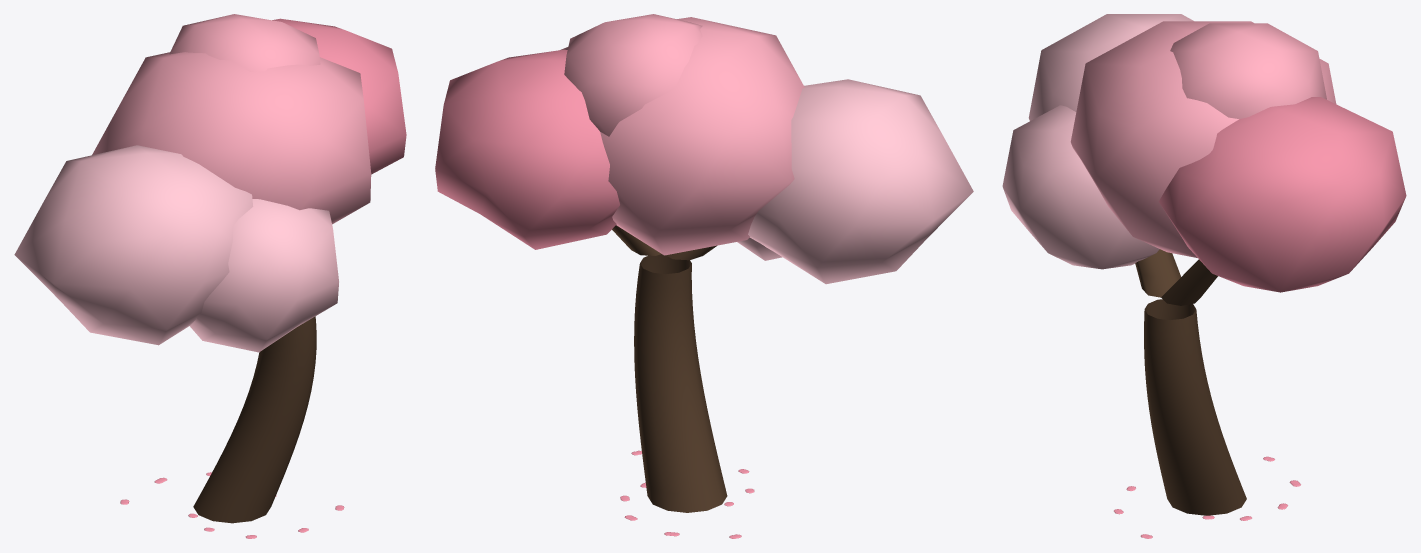
File: blossom-tree-canal.glb
3 renders of one model, left to right at view 1: azimuth 30°, elevation 25°; view 2: azimuth 150°, elevation 25°; view 3: azimuth 270°, elevation 25°, orthographic. The views are drawn at different scales.
Parts seen in each view (by area): view 1: Blossom_Left, Blossom_Center, Blossom_Front, Trunk, Blossom_Right, Blossom_Top; view 2: Blossom_Center, Blossom_Left, Blossom_Right, Trunk, Blossom_Top; view 3: Blossom_Right, Blossom_Center, Trunk, Blossom_Front, Blossom_Top, Blossom_Left.
Boxes of the visible parts, box(x1,y1,x2,y2) form: Blossom_Left: box(14, 145, 253, 345); Blossom_Center: box(92, 52, 371, 224); Blossom_Front: box(190, 199, 338, 352); Trunk: box(193, 316, 316, 523); Blossom_Right: box(272, 18, 406, 174); Blossom_Top: box(169, 14, 320, 71); Blossom_Center: box(561, 17, 804, 255); Blossom_Left: box(748, 79, 973, 284); Blossom_Right: box(435, 49, 619, 249); Trunk: box(612, 225, 727, 512); Blossom_Top: box(564, 14, 702, 136); Blossom_Right: box(1158, 97, 1406, 292); Blossom_Center: box(1070, 21, 1336, 257); Trunk: box(1135, 249, 1246, 515); Blossom_Front: box(1002, 105, 1159, 269); Blossom_Top: box(1170, 23, 1326, 118); Blossom_Left: box(1028, 14, 1193, 120).
Size of the model in its own units: 4.78 by 5.05 by 3.85.
